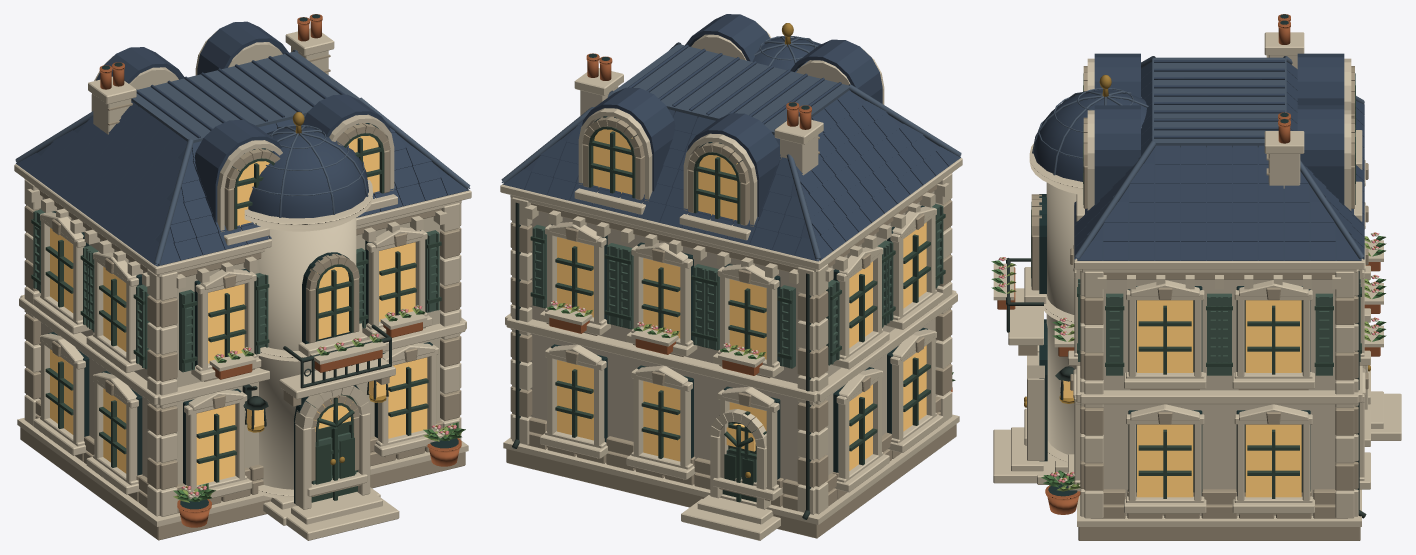
3 renders of one model, left to right at view 1: azimuth 30°, elevation 25°; view 2: azimuth 150°, elevation 25°; view 3: azimuth 270°, elevation 25°, orthographic. The views are drawn at different scales.
Visible parts, largest first — view 1: classic_tower_2_geometry; view 2: classic_tower_2_geometry; view 3: classic_tower_2_geometry.
Boxes of the visible parts, left/top/right/bottom form: classic_tower_2_geometry: left=14, top=14, right=471, bottom=540; classic_tower_2_geometry: left=500, top=14, right=962, bottom=540; classic_tower_2_geometry: left=991, top=14, right=1401, bottom=540.
Bounding box in the file's own units: 0.9288 × 1.05 × 0.99.
